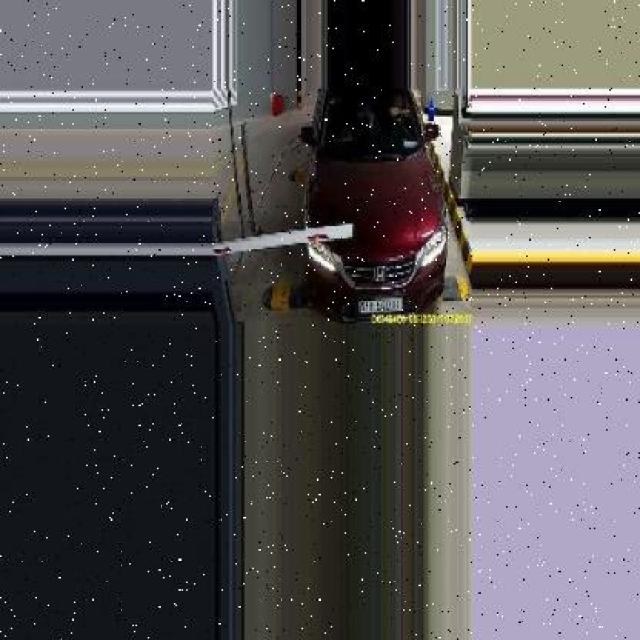number_plate: (357, 294, 405, 314)
